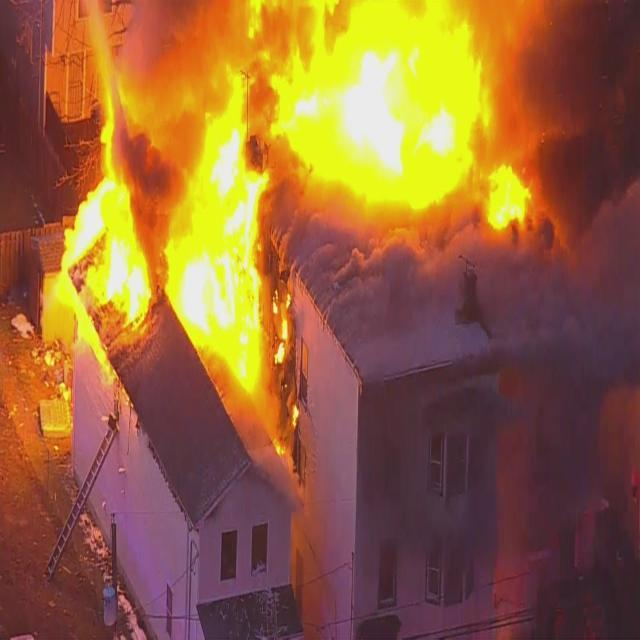Fire: (278, 0, 472, 201), (54, 177, 152, 328), (168, 236, 260, 386), (204, 100, 246, 234), (492, 169, 522, 221)
Smoke: (263, 227, 525, 376), (528, 170, 640, 362), (513, 0, 640, 159), (98, 0, 202, 173), (204, 0, 274, 91)
